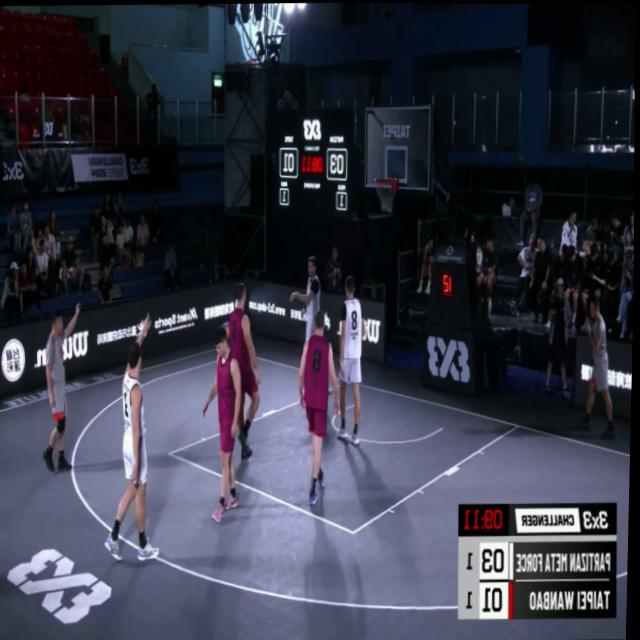hoop: (372, 174, 400, 214)
player: (103, 312, 158, 566), (201, 323, 250, 528), (295, 306, 341, 507), (225, 283, 266, 459), (335, 277, 369, 447), (293, 256, 333, 399)
